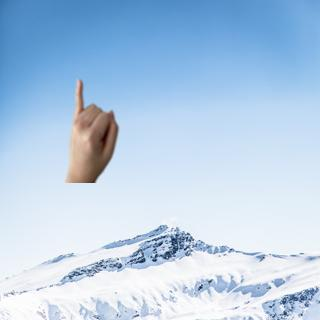Fine: (59, 70, 126, 179)
